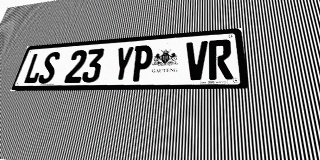2: (64, 49, 88, 83)
3: (81, 48, 105, 83)
L: (22, 52, 47, 84)
P: (130, 45, 154, 82)
R: (208, 39, 233, 80)
S: (37, 51, 61, 84)
V: (185, 41, 208, 80)
Y: (111, 46, 135, 82)
